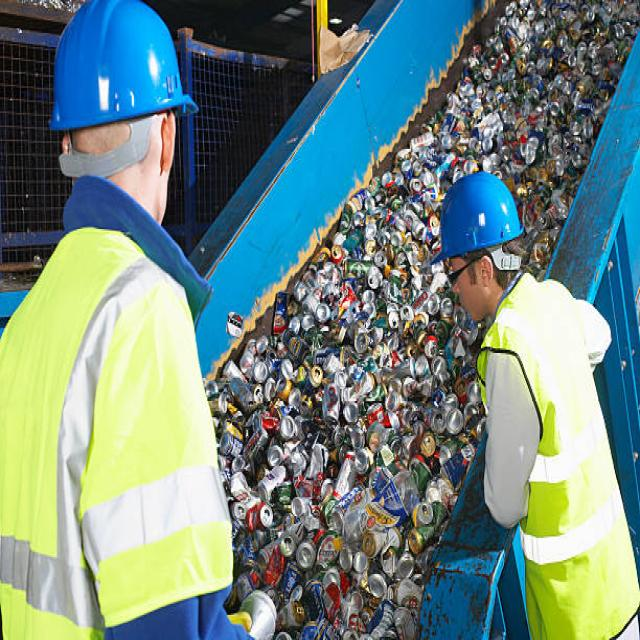metal: (258, 285, 449, 546), (490, 8, 624, 171)
